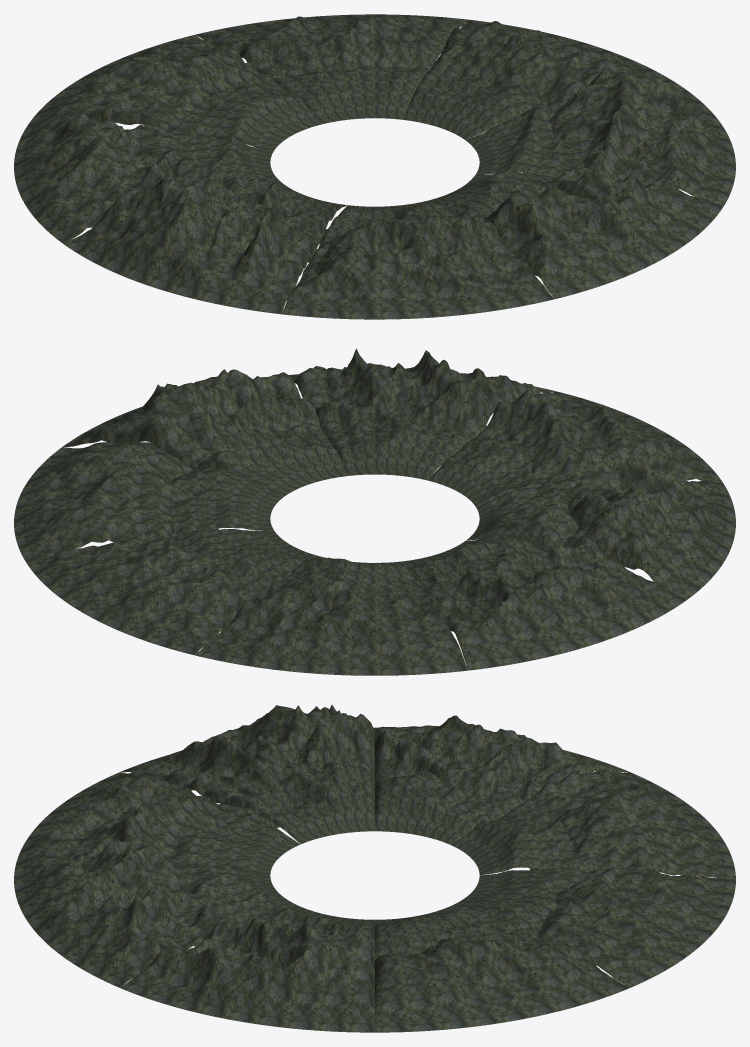
File: vista_mountains.glb
3 views of the same model, one above another, from view 1: azimuth 30°, elevation 25°; view 2: azimuth 150°, elevation 25°; view 3: azimuth 270°, elevation 25° (orthographic).
Parts seen in each view (by area): view 1: vista_outer_peaks_s3, vista_outer_peaks_s2, vista_outer_peaks_s1, vista_outer_peaks_s0, vista_outer_peaks_s4, vista_outer_peaks_s5, vista_outer_peaks_s6, vista_outer_peaks_s7, vista_foothills_s5, vista_foothills_s6, vista_foothills_s7, vista_foothills_s0 (+4 smaller); view 2: vista_outer_peaks_s4, vista_outer_peaks_s5, vista_outer_peaks_s6, vista_outer_peaks_s3, vista_outer_peaks_s7, vista_outer_peaks_s0, vista_outer_peaks_s2, vista_outer_peaks_s1, vista_foothills_s1, vista_foothills_s0, vista_foothills_s7, vista_foothills_s3 (+4 smaller); view 3: vista_outer_peaks_s0, vista_outer_peaks_s1, vista_outer_peaks_s7, vista_outer_peaks_s6, vista_outer_peaks_s5, vista_outer_peaks_s3, vista_outer_peaks_s2, vista_outer_peaks_s4, vista_foothills_s3, vista_foothills_s4, vista_foothills_s5, vista_foothills_s2 (+4 smaller).
Boxes of the visible parts, x1=… form: vista_outer_peaks_s3: x1=62, y1=174, x2=326, y2=314; vista_outer_peaks_s2: x1=282, y1=213, x2=554, y2=319; vista_outer_peaks_s1: x1=483, y1=166, x2=723, y2=298; vista_outer_peaks_s0: x1=549, y1=67, x2=735, y2=206; vista_outer_peaks_s4: x1=14, y1=113, x2=191, y2=242; vista_outer_peaks_s5: x1=27, y1=35, x2=270, y2=130; vista_outer_peaks_s6: x1=195, y1=14, x2=467, y2=92; vista_outer_peaks_s7: x1=430, y1=19, x2=686, y2=122; vista_foothills_s5: x1=179, y1=74, x2=322, y2=150; vista_foothills_s6: x1=272, y1=65, x2=430, y2=123; vista_foothills_s7: x1=402, y1=68, x2=549, y2=140; vista_foothills_s0: x1=466, y1=105, x2=584, y2=177; vista_outer_peaks_s4: x1=434, y1=538, x2=687, y2=670; vista_outer_peaks_s5: x1=195, y1=579, x2=468, y2=675; vista_outer_peaks_s6: x1=26, y1=532, x2=266, y2=655; vista_outer_peaks_s3: x1=535, y1=458, x2=735, y2=599; vista_outer_peaks_s7: x1=14, y1=442, x2=218, y2=562; vista_outer_peaks_s0: x1=63, y1=369, x2=320, y2=469; vista_outer_peaks_s2: x1=478, y1=390, x2=723, y2=483; vista_outer_peaks_s1: x1=289, y1=348, x2=554, y2=458; vista_foothills_s1: x1=320, y1=413, x2=486, y2=480; vista_foothills_s0: x1=188, y1=423, x2=347, y2=496; vista_foothills_s7: x1=161, y1=468, x2=283, y2=539; vista_foothills_s3: x1=466, y1=480, x2=578, y2=549; vista_outer_peaks_s0: x1=120, y1=917, x2=374, y2=1032; vista_outer_peaks_s1: x1=14, y1=836, x2=221, y2=987; vista_outer_peaks_s7: x1=375, y1=928, x2=629, y2=1032; vista_outer_peaks_s6: x1=536, y1=861, x2=735, y2=987; vista_outer_peaks_s5: x1=519, y1=770, x2=735, y2=879; vista_outer_peaks_s3: x1=120, y1=705, x2=374, y2=827; vista_outer_peaks_s2: x1=14, y1=771, x2=227, y2=879; vista_outer_peaks_s4: x1=375, y1=715, x2=629, y2=802; vista_foothills_s3: x1=208, y1=761, x2=374, y2=843; vista_foothills_s4: x1=375, y1=770, x2=522, y2=843; vista_foothills_s5: x1=449, y1=806, x2=596, y2=875; vista_foothills_s2: x1=170, y1=803, x2=300, y2=875.
Bounding box in the file's own units: 580 × 56.36 × 580.
1 material, 1 textured.
